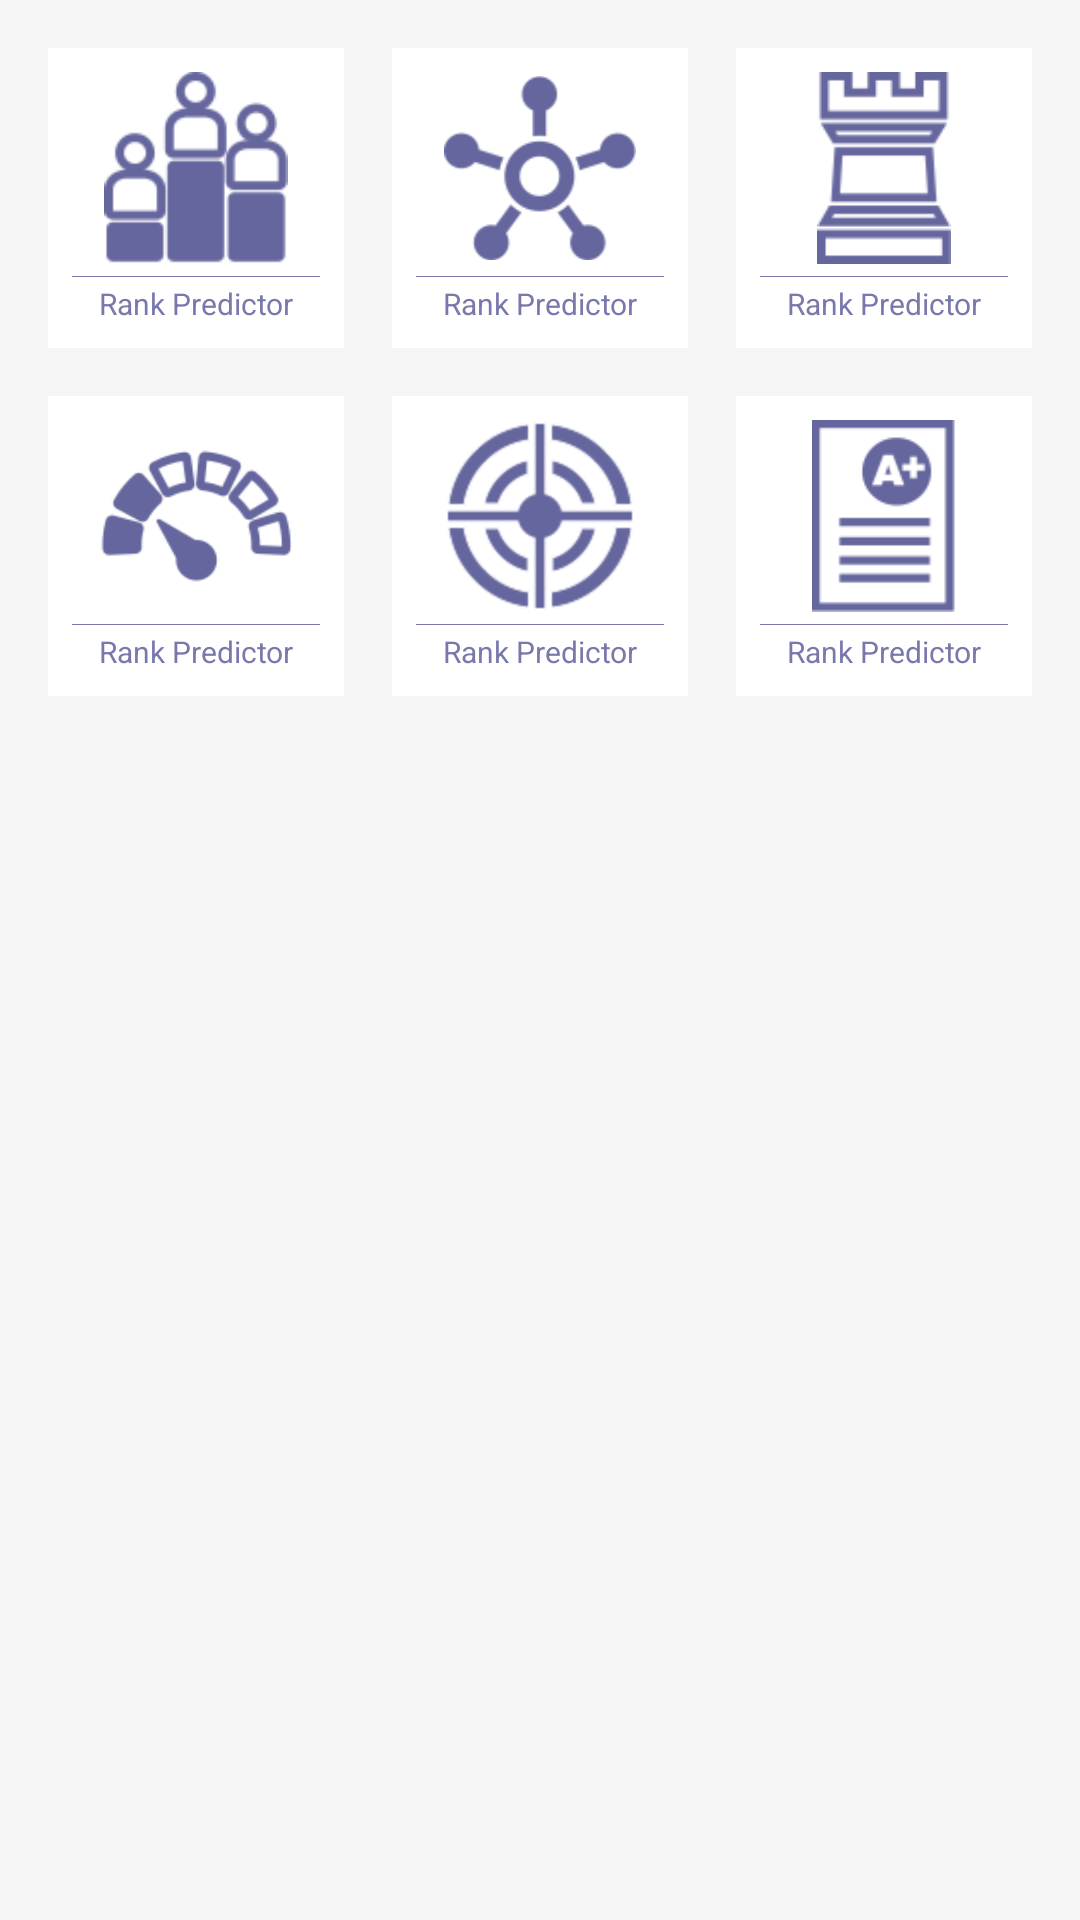

Icon click points for this 1080 × 1920 phone screenshot, format point (x, y):
accuracy: point (540, 516)
speed: point (196, 516)
